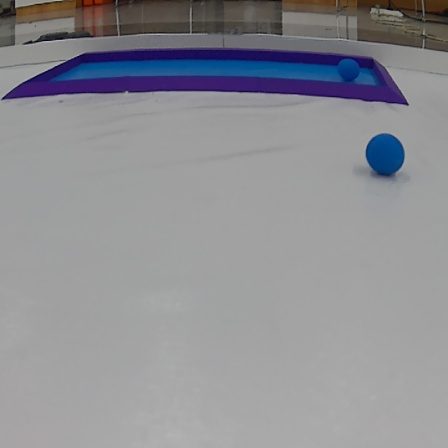blue: (360, 129, 409, 176), (337, 60, 361, 80)
blue_aim: (0, 45, 417, 106)
